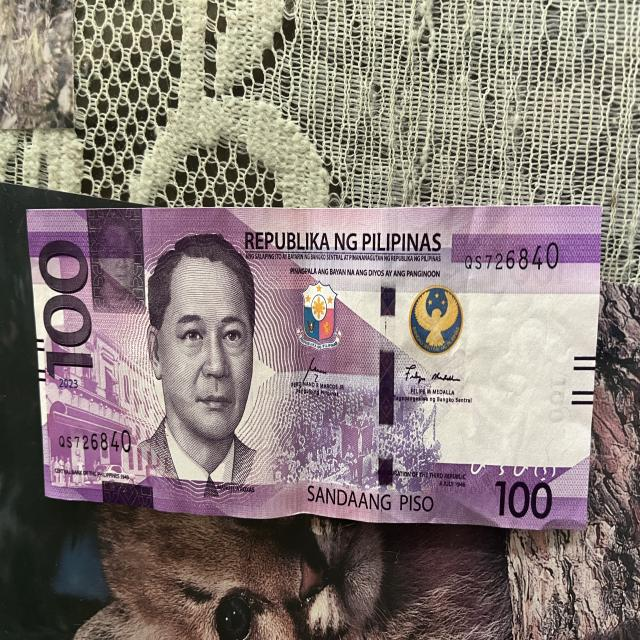concealed_value: (86, 206, 144, 316)
security_thread: (377, 206, 395, 526)
see_through_mark: (460, 444, 563, 484)
serial_number: (458, 233, 567, 282), (53, 424, 133, 454)
value: (38, 231, 102, 377)
value_watermark: (544, 372, 569, 429)
